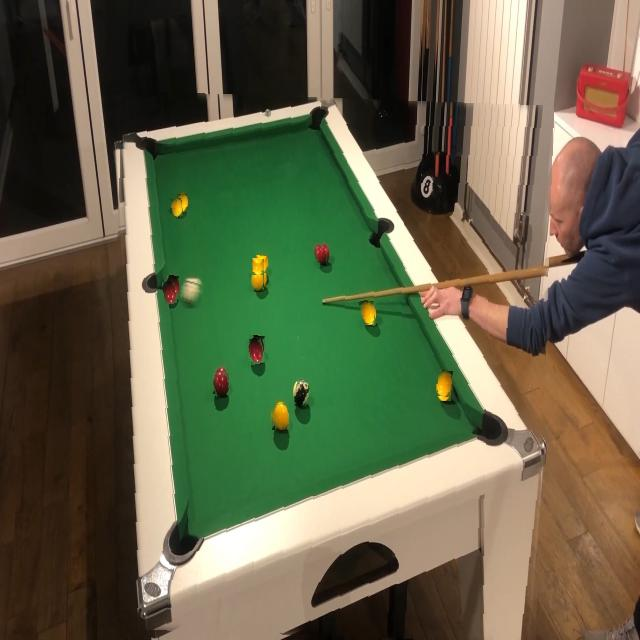Ball: (179, 281, 201, 305), (247, 338, 265, 365), (213, 371, 230, 399), (273, 404, 290, 432), (293, 380, 310, 408), (437, 371, 453, 397), (360, 300, 375, 324), (163, 281, 177, 304), (251, 270, 264, 292), (313, 243, 326, 265), (170, 199, 182, 217), (252, 258, 264, 275)
Billiard table: (108, 94, 550, 640)
